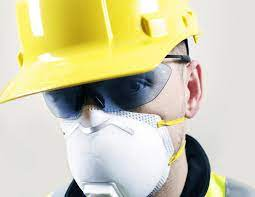Helmet: (8, 1, 193, 108)
Mask: (57, 119, 185, 197)
